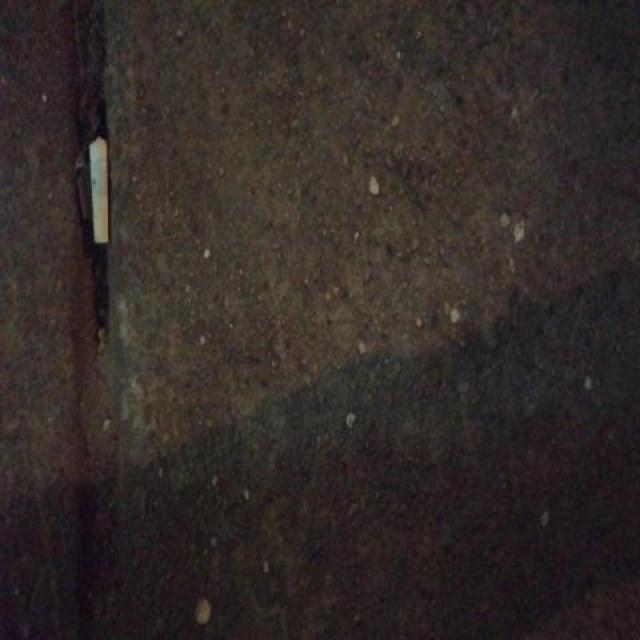non-organic waste: (85, 131, 112, 250)
